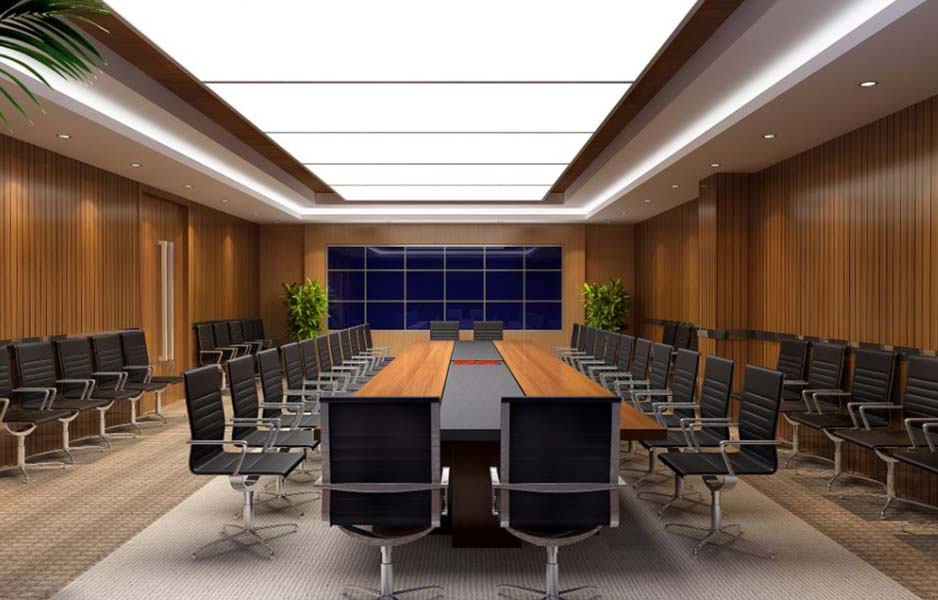conference_table: (355, 339, 665, 549)
